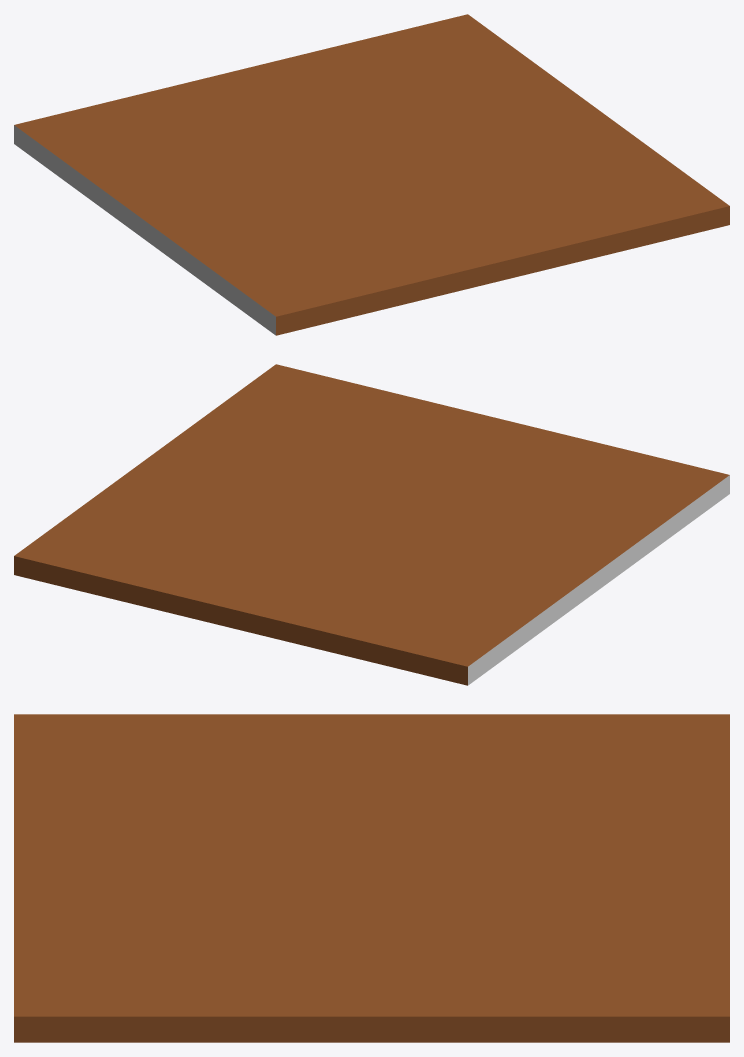
File: farmtest.dae
3 renders of one model, top to bottom at view 1: azimuth 30°, elevation 25°; view 2: azimuth 150°, elevation 25°; view 3: azimuth 270°, elevation 25°, orthographic. The views are drawn at different scales.
Visible parts, largest first — view 1: Cube; view 2: Cube; view 3: Cube.
Part boxes in pixels (bbox=[...]): Cube: bbox=[14, 14, 729, 335]; Cube: bbox=[14, 364, 729, 685]; Cube: bbox=[14, 714, 729, 1042].
Bounding box in the file's own units: 2 × 2 × 0.08.
